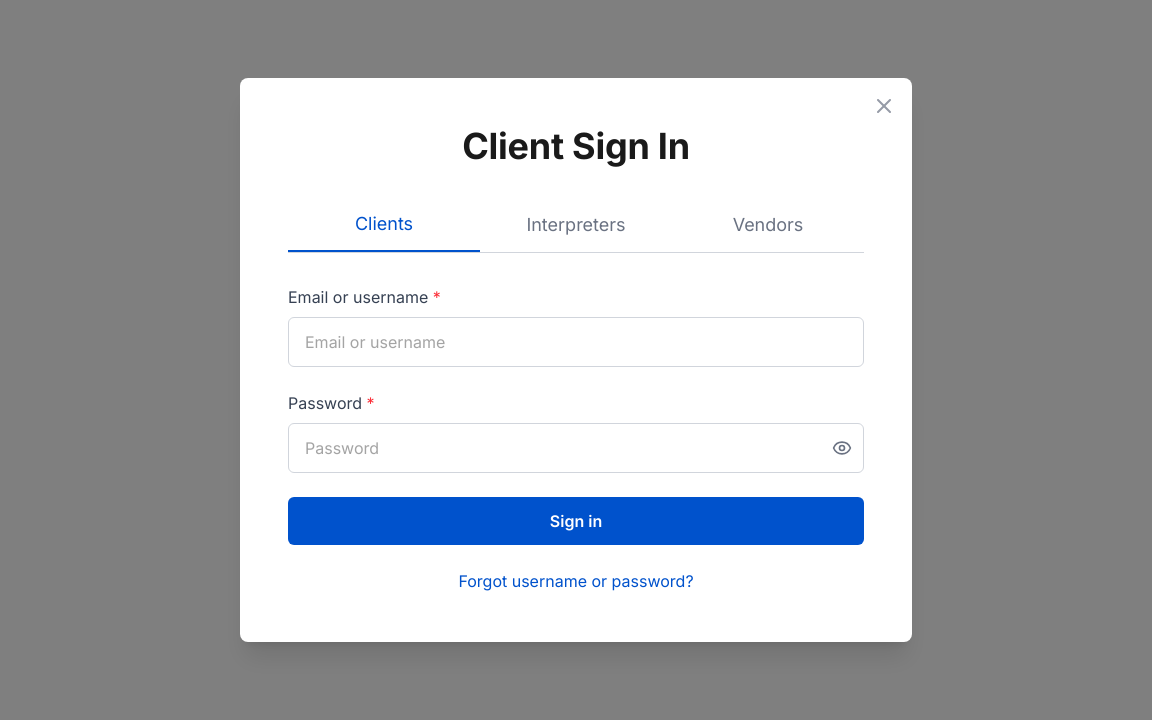
it: SignInModal › should switch tabs when clicked
The image size is (1152, 720).
Click the tab "Interpreters" at coordinates (576, 225), box [480,198,672,252]
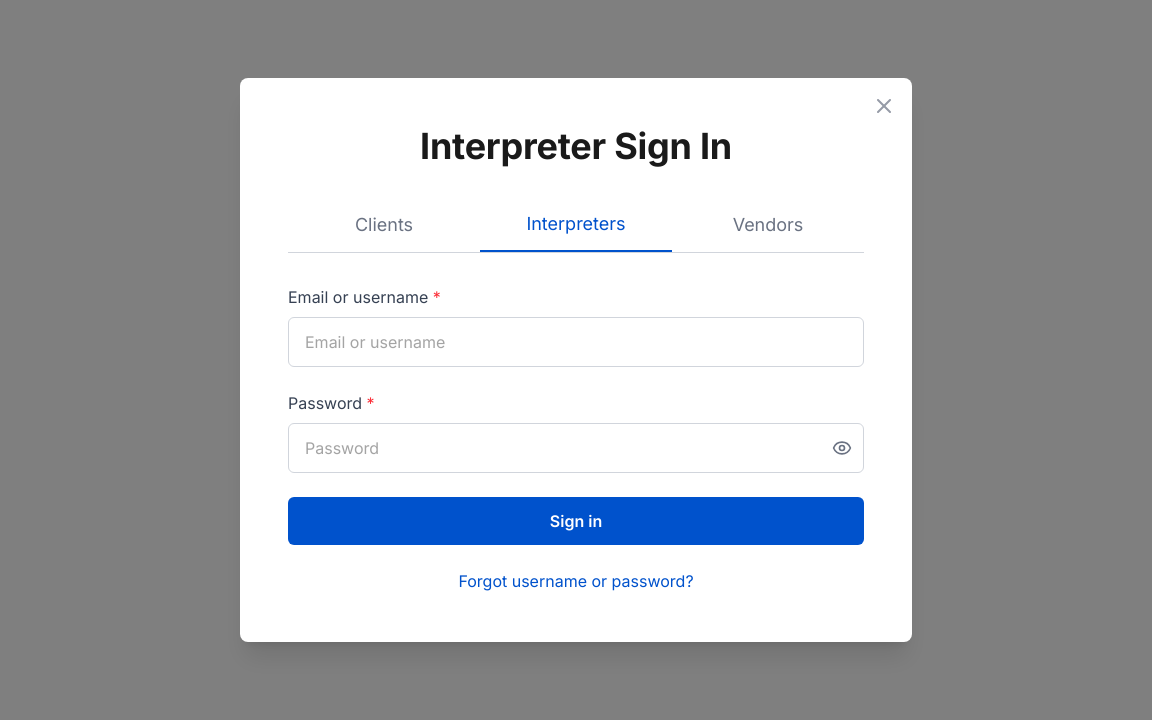
Expected: the heading "Interpreter Sign In" is shown, [420,124,732,168]
